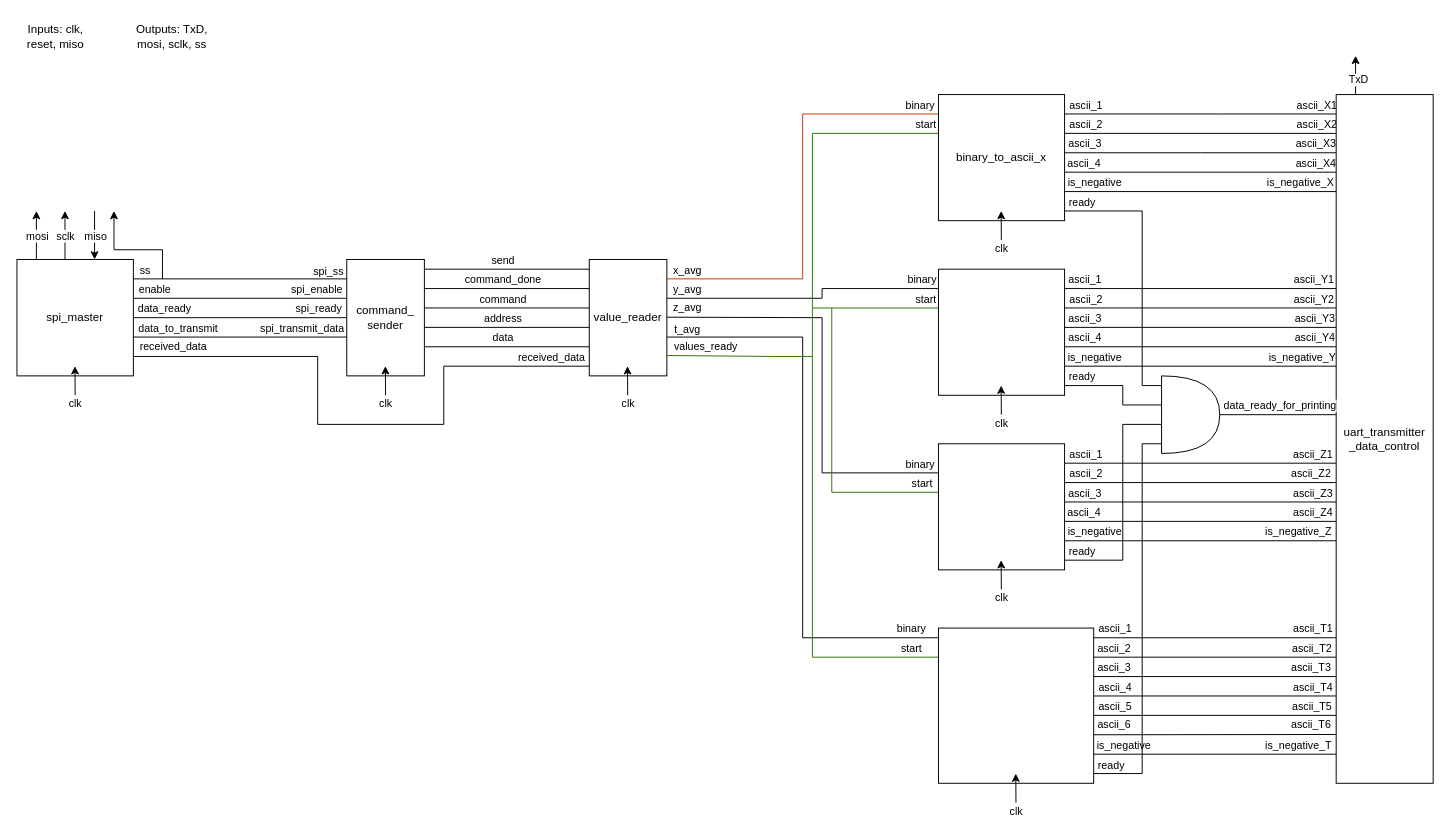
The diagram is 1450 pixels wide and 834 high, and some of its shapes have lost their labels. The shapes that lost their labels are listed below. From the top down, each one's box as (x1, y1, x2, y2) in pixels, then its label:
(938, 268, 1065, 395): binary_ to_ascii_y
(938, 443, 1065, 570): binary_ to_ascii_z
(938, 627, 1094, 783): binary_ to_ascii_t
